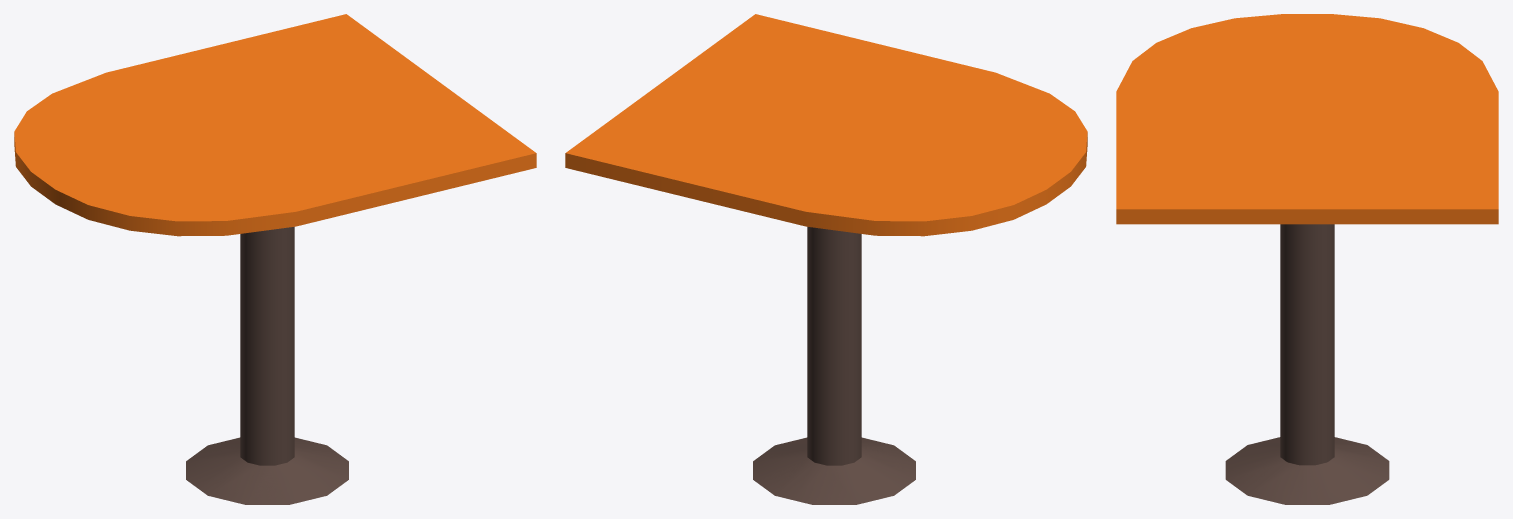
File: table.001.fbx
3 renders of one model, left to right at view 1: azimuth 30°, elevation 25°; view 2: azimuth 150°, elevation 25°; view 3: azimuth 270°, elevation 25°, orthographic.
Parts seen in each view (by area): view 1: table.001; view 2: table.001; view 3: table.001.
Boxes of the visible parts, x1,y1,x2,y2 form: table.001: [14, 14, 536, 504]; table.001: [565, 14, 1087, 504]; table.001: [1116, 14, 1498, 504].
Bounding box in the file's own units: 137 × 113 × 113.
